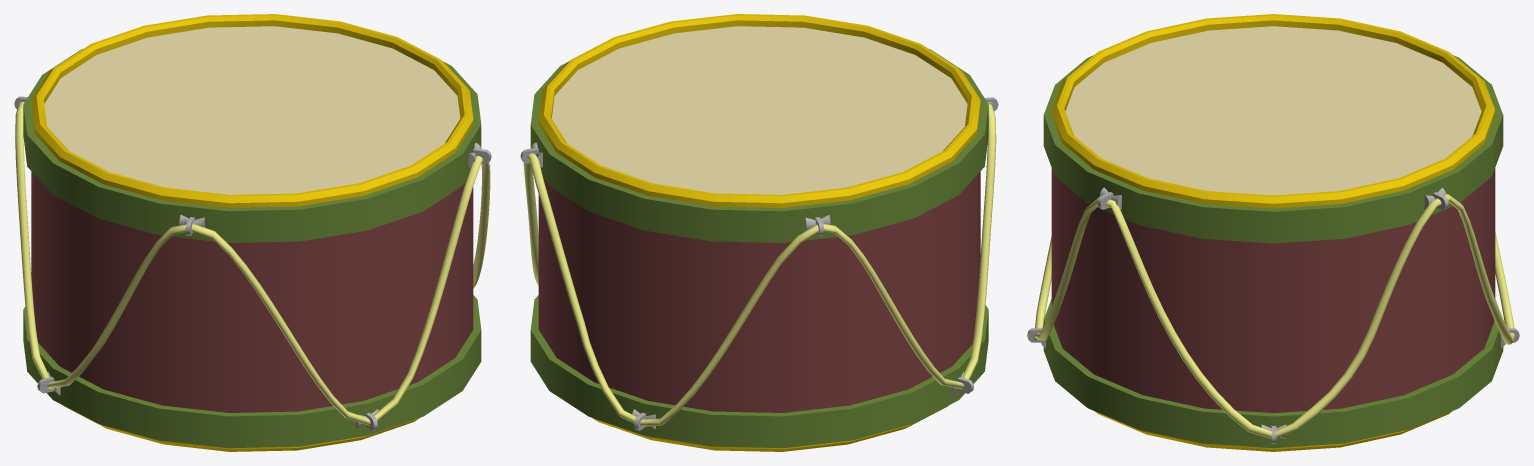
Rendered from drum.fbx.
The picture shows the model from 3 angles, left to right: view 1: azimuth 30°, elevation 25°; view 2: azimuth 150°, elevation 25°; view 3: azimuth 270°, elevation 25°; orthographic projection.
Visible parts, largest first — view 1: drum_GEO, rope_GEO, hook_GEO; view 2: drum_GEO, rope_GEO, hook_GEO; view 3: drum_GEO, rope_GEO, hook_GEO.
Boxes of the visible parts, <box> form: drum_GEO: <box>23,14,481,451</box>; rope_GEO: <box>15,101,490,425</box>; hook_GEO: <box>14,96,491,430</box>; drum_GEO: <box>530,14,988,451</box>; rope_GEO: <box>523,104,996,426</box>; hook_GEO: <box>520,97,998,430</box>; drum_GEO: <box>1043,14,1503,451</box>; rope_GEO: <box>1034,193,1514,438</box>; hook_GEO: <box>1027,187,1519,443</box>.
Size of the model in its own units: 56.86 by 32.5 by 56.86.
